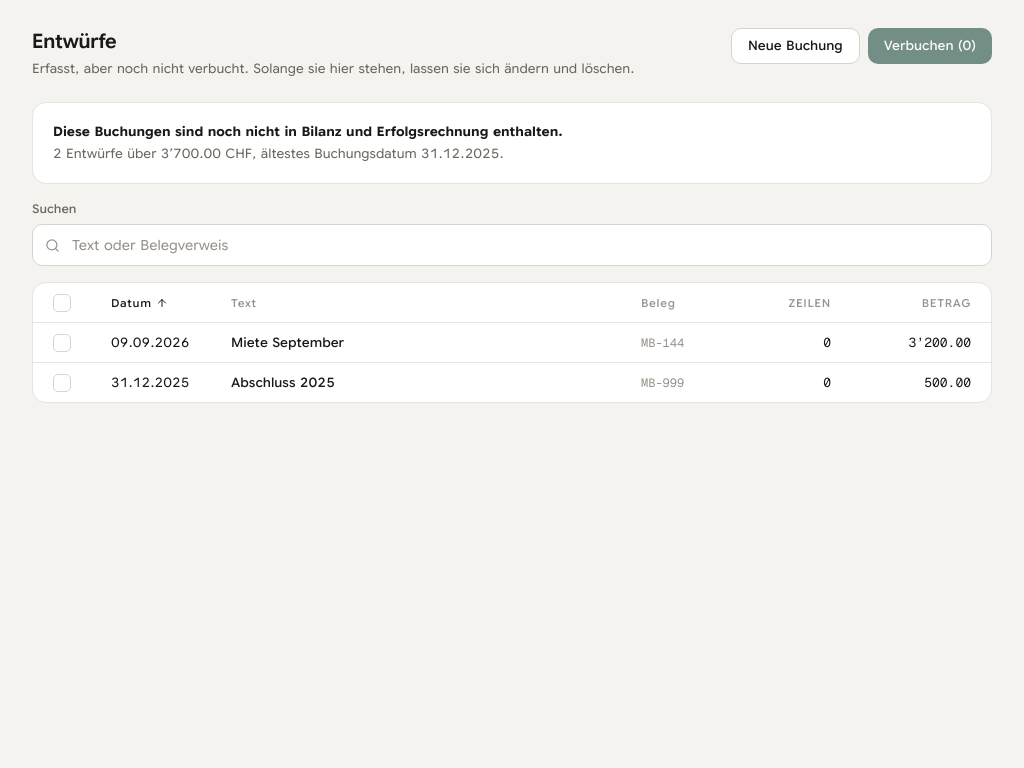
Test: EntryDraftPage › showsThePreviewBeforePostingTest
Click the checkbox next to "09.09.2026".
click(62, 343)  # box [53,334,71,352]
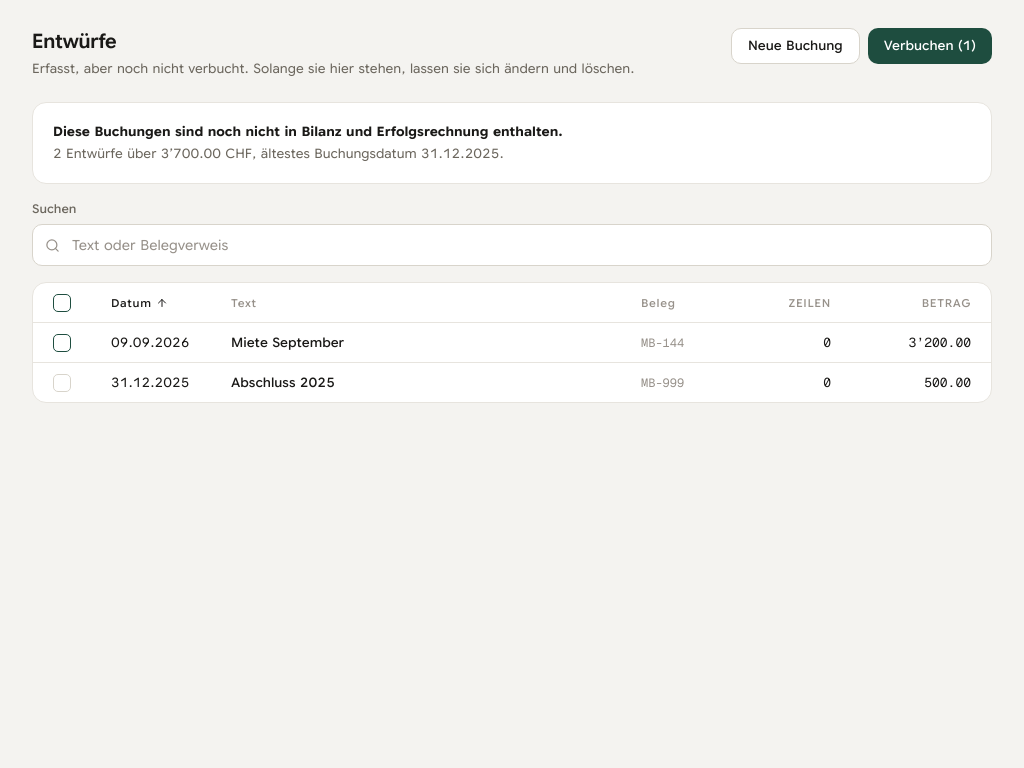
Click the checkbox in the row of "Abschluss 2025".
click(62, 383)  # box [53,374,71,392]
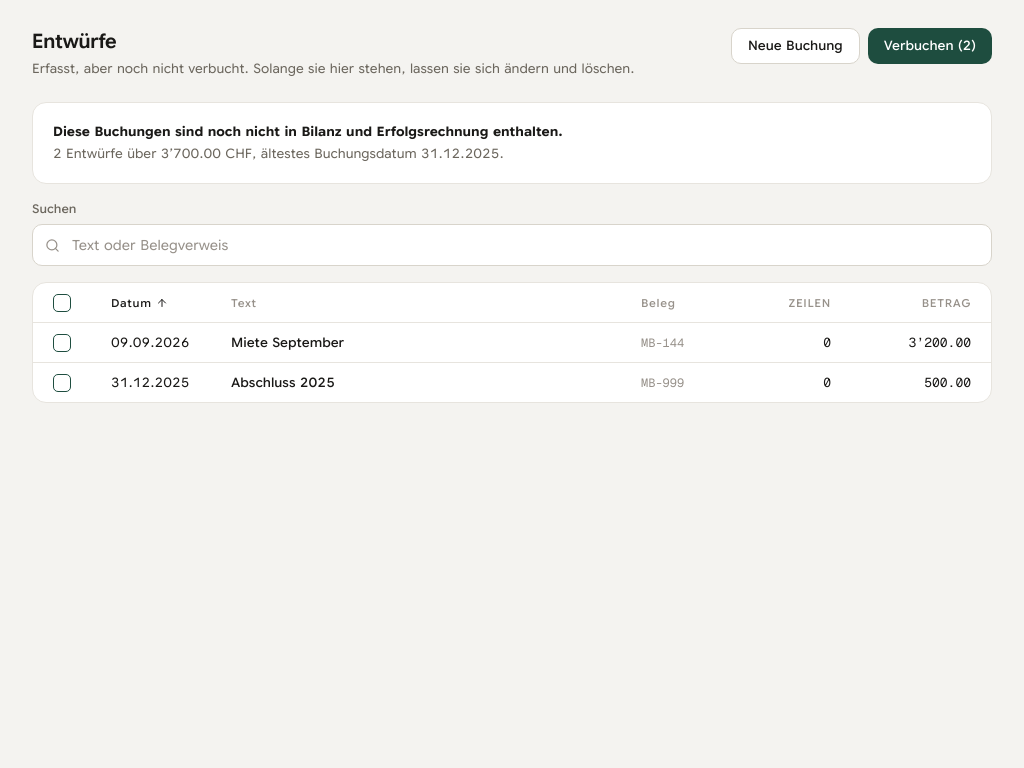
Click the button "Verbuchen (2)".
click(930, 46)  # box [868,28,992,64]
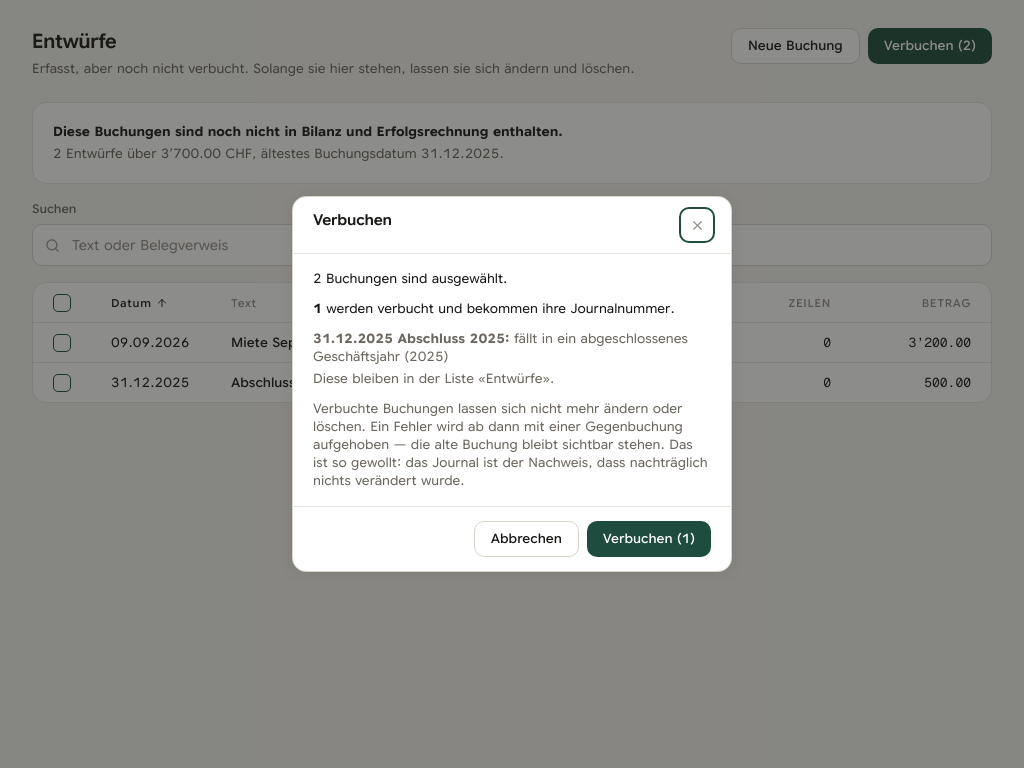
Expected: the text "2 Buchungen sind ausgewählt." is shown, [313,270,507,287]
Expected: the text "1 werden verbucht" is shown, [313,300,711,318]
Expected: the text "fällt in ein abgeschlossenes Geschäftsjahr (2025)" is shown, [313,330,688,365]
